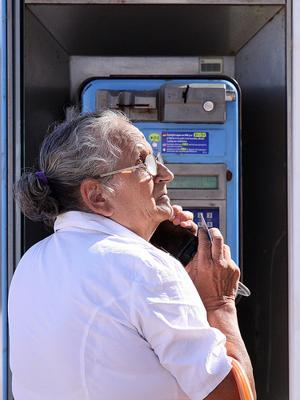person: (8, 110, 257, 400)
